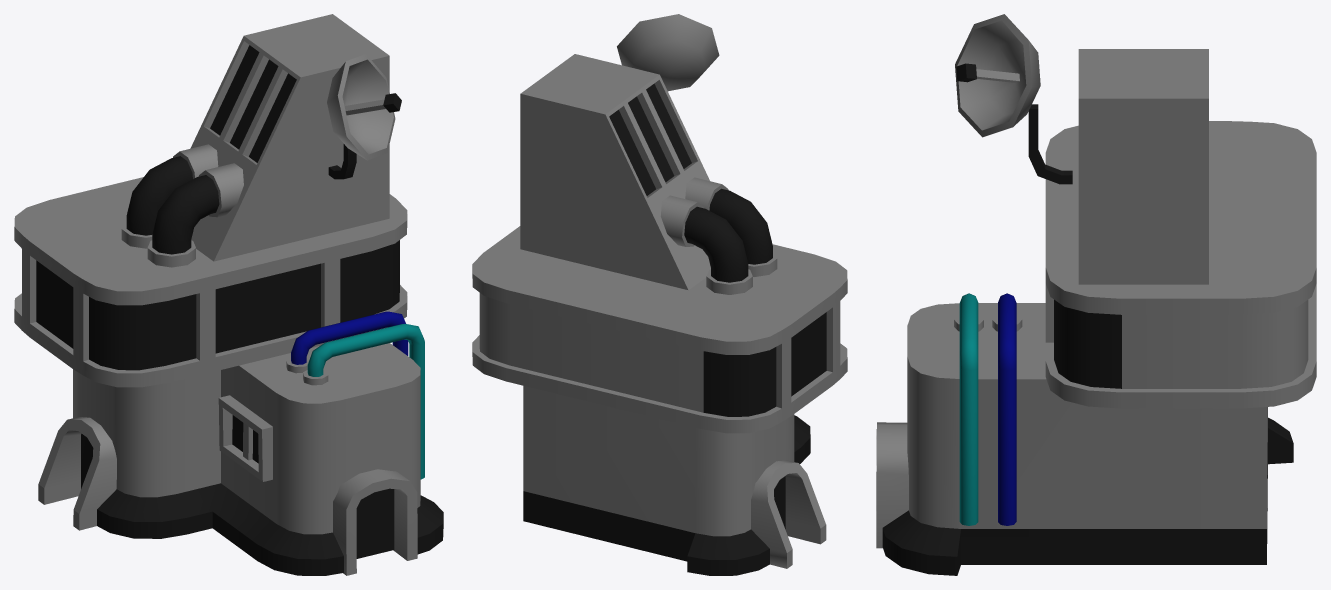
Rendered from center_base.fbx.
3 views of the same model, side by side, from view 1: azimuth 30°, elevation 25°; view 2: azimuth 150°, elevation 25°; view 3: azimuth 270°, elevation 25° (orthographic). The views are drawn at different scales.
Visible parts, largest first — view 1: Box001; view 2: Box001; view 3: Box001.
Part boxes in pixels (x1,y1,x2,y2): Box001: [14, 14, 443, 575]; Box001: [472, 14, 847, 575]; Box001: [876, 14, 1316, 575].
Size of the model in its own units: 46.35 by 63.93 by 48.57.
